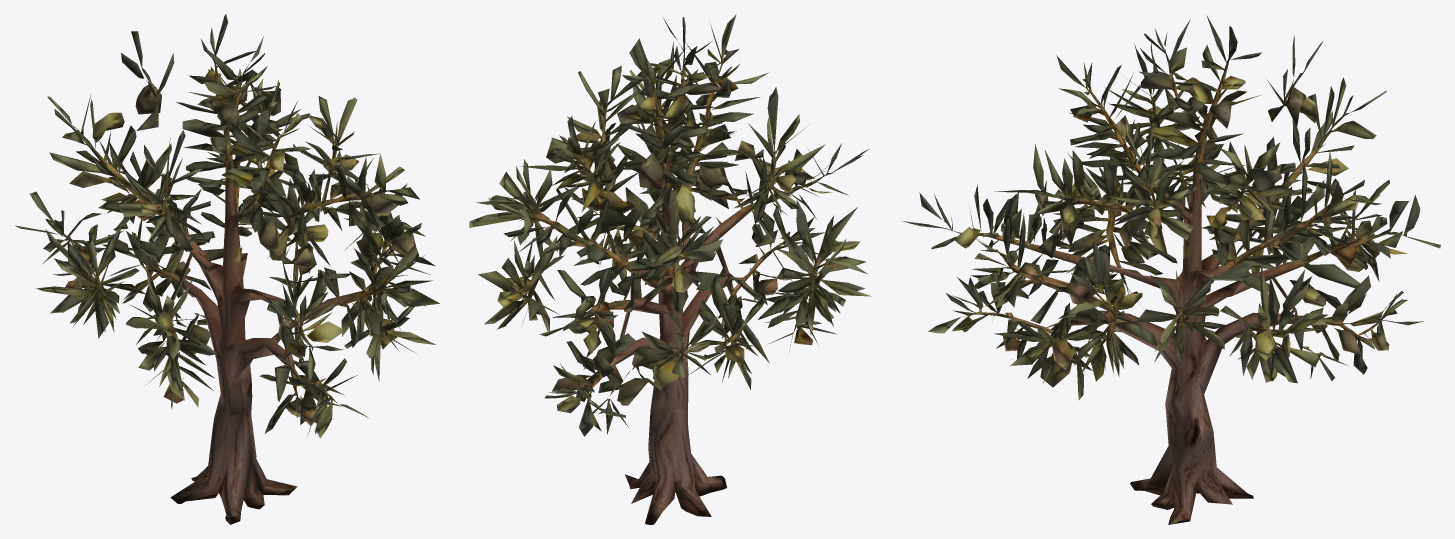
File: olive_tree_game.glb
3 renders of one model, left to right at view 1: azimuth 30°, elevation 25°; view 2: azimuth 150°, elevation 25°; view 3: azimuth 270°, elevation 25°, orthographic. The views are drawn at different scales.
Parts seen in each view (by area): view 1: tripo_node_226857dd-0cb0-4b63-9f23-a830491f0ffa; view 2: tripo_node_226857dd-0cb0-4b63-9f23-a830491f0ffa; view 3: tripo_node_226857dd-0cb0-4b63-9f23-a830491f0ffa.
Part boxes in pixels (bbox=[...]): tripo_node_226857dd-0cb0-4b63-9f23-a830491f0ffa: bbox=[15, 14, 439, 524]; tripo_node_226857dd-0cb0-4b63-9f23-a830491f0ffa: bbox=[469, 14, 872, 524]; tripo_node_226857dd-0cb0-4b63-9f23-a830491f0ffa: bbox=[902, 15, 1440, 524].
Bounding box in the file's own units: 0.7804 × 0.9575 × 0.9706.
1 material, 1 textured.
